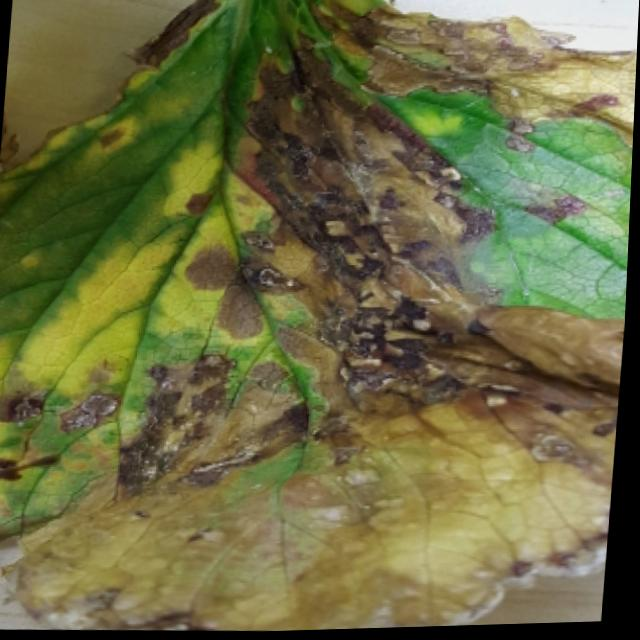Angular Leafspot: (0, 0, 638, 633)
